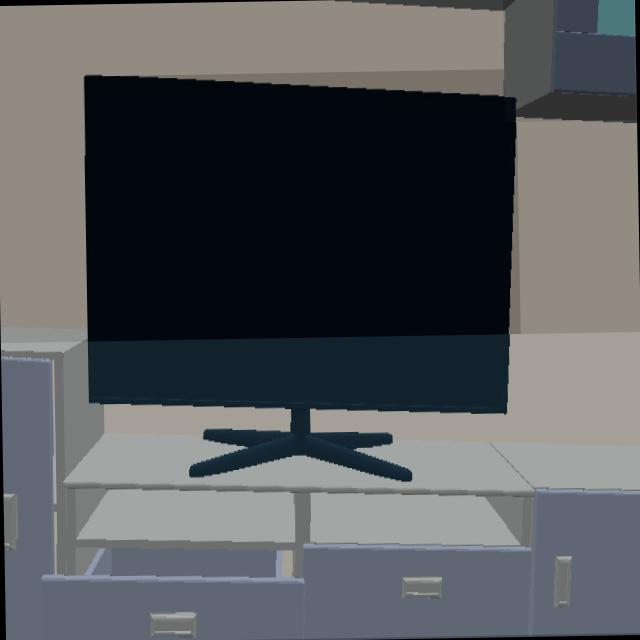cabinet: (1, 341, 640, 640), (505, 0, 635, 120)
monitor: (86, 76, 517, 479)
